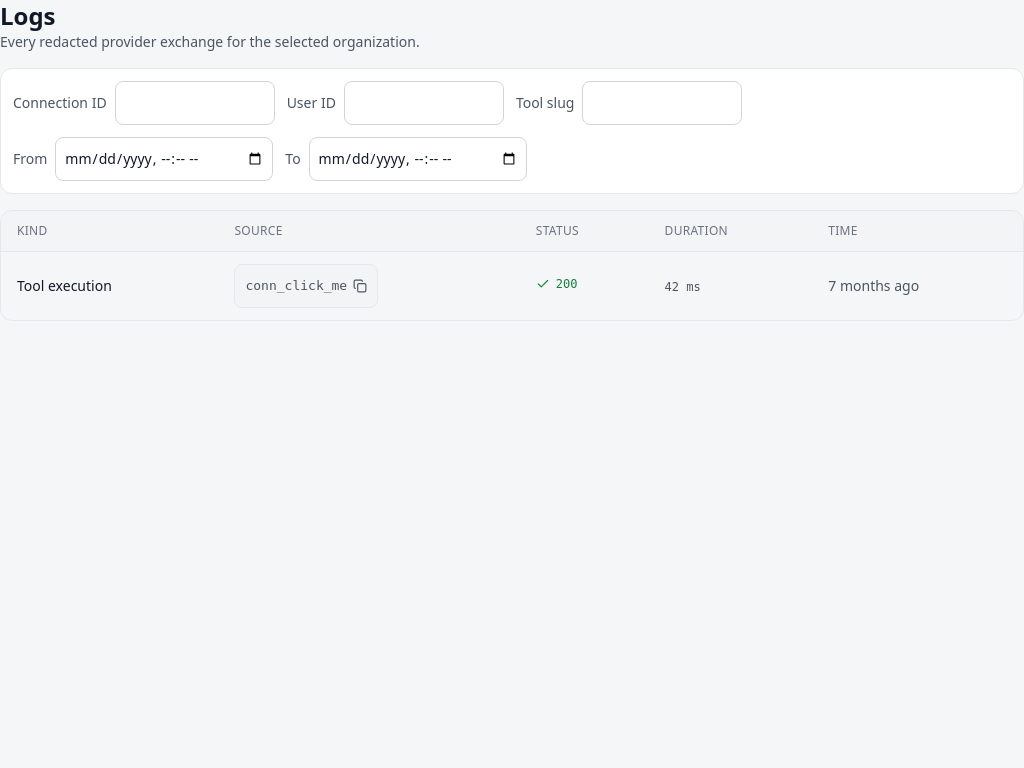
Test: LogsPage › opening a row shows the drawer with its redacted request/response bodies via CodeViewer
The width and height of the screenshot is (1024, 768).
Click the text "conn_click_me": (64, 286) [1,252,1023,320]
(page scrolled)
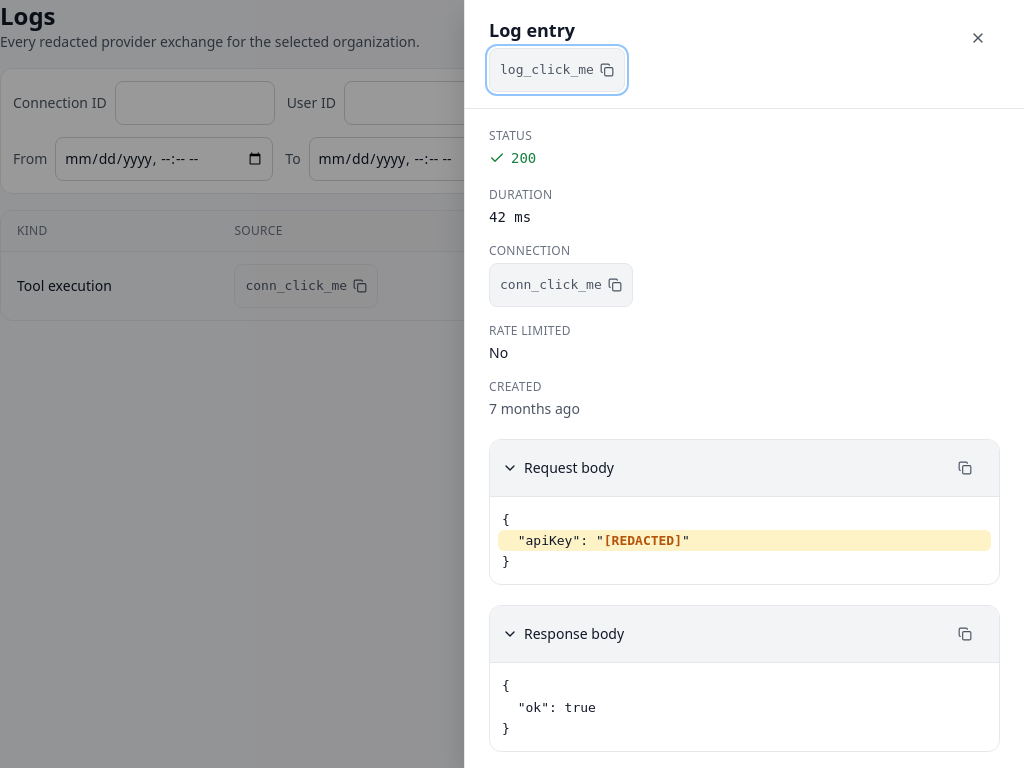
Now the heading "Log entry" is shown, box [489,18,575,42]
Now the text "[REDACTED]" is shown, box [604,533,682,548]
Now the text "\"ok\": true" is shown, box [502,700,596,714]
